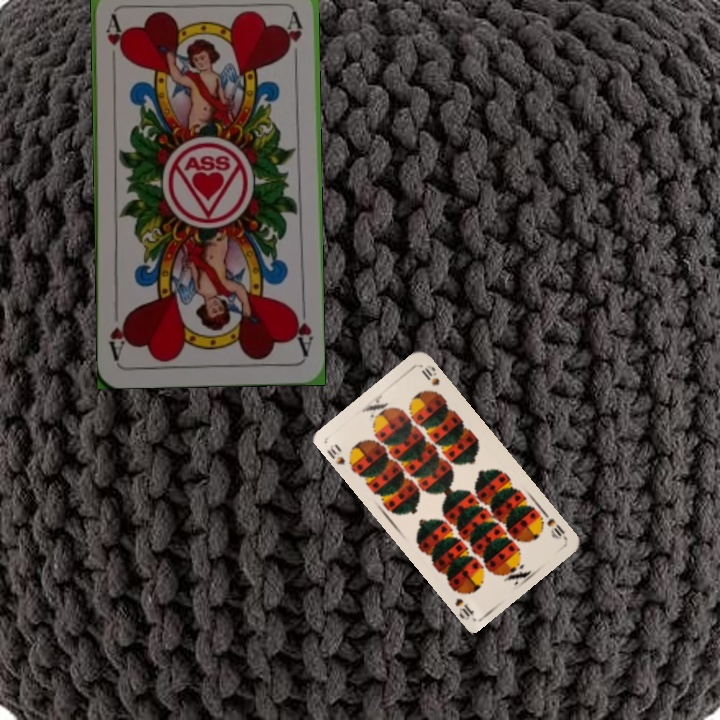HA: (289, 300, 315, 359), (102, 13, 125, 59)
S10: (323, 440, 357, 472), (542, 514, 568, 542)
